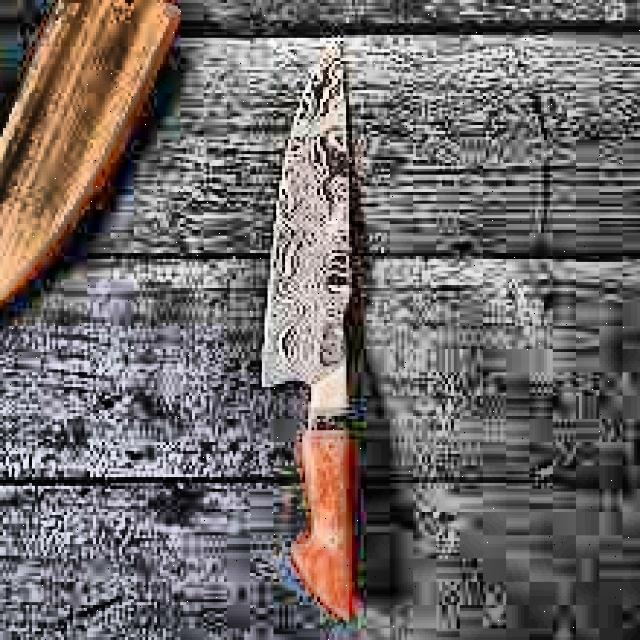knife: (263, 39, 357, 621)
